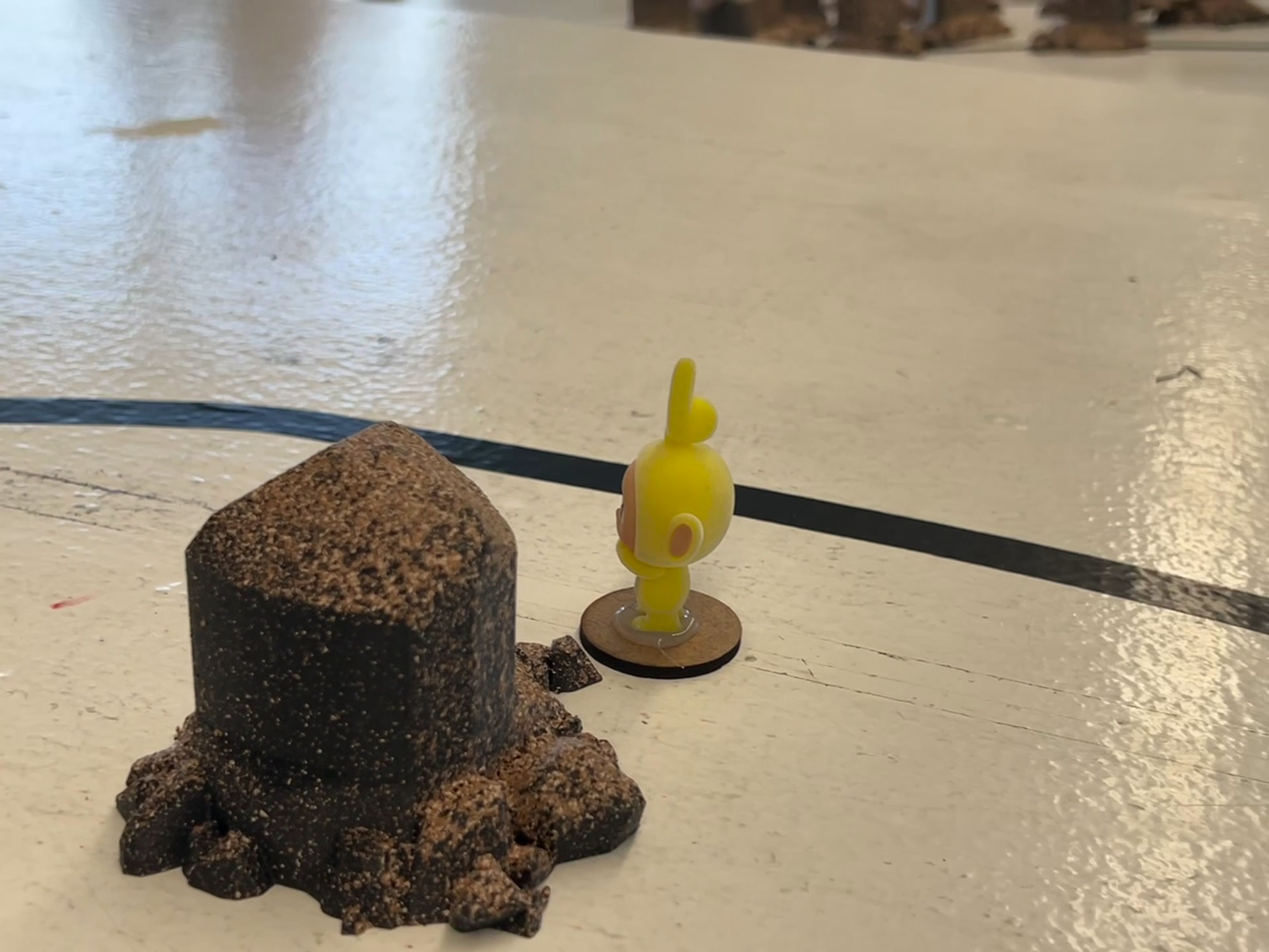teletubby: (616, 359, 734, 633)
